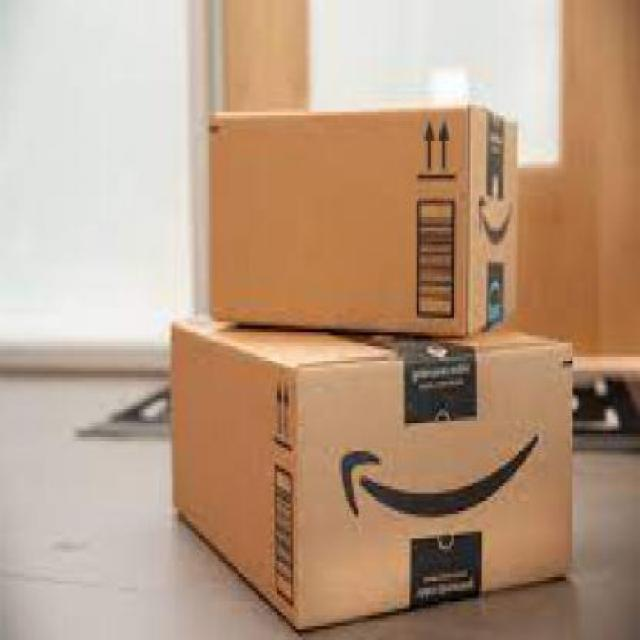cardboxes: (166, 312, 572, 634), (206, 100, 522, 335)
